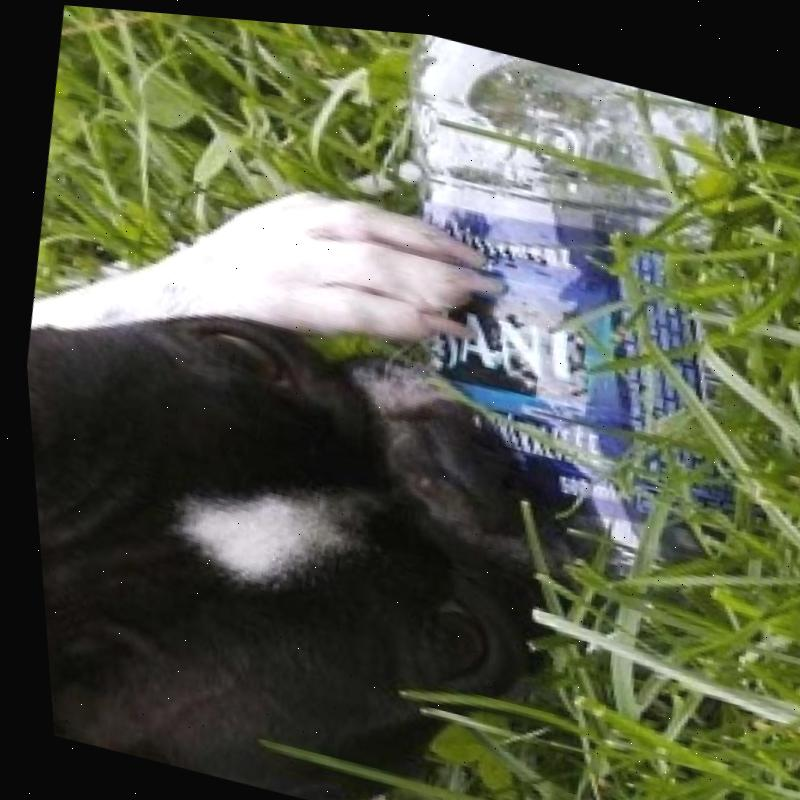botella: (326, 21, 800, 618)
